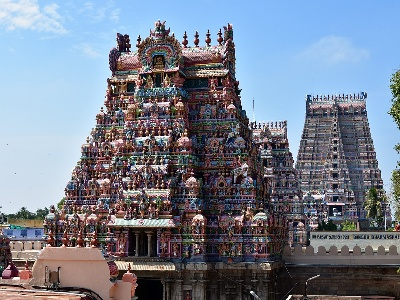gopura: (62, 49, 279, 259), (294, 102, 393, 214)
